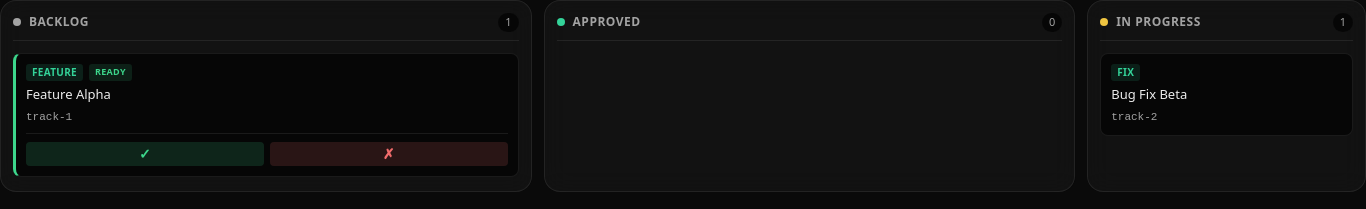
KanbanBoard › cancels reject when No is clicked
The width and height of the screenshot is (1366, 209).
Click the button titled "Reject".
click(389, 154)  # box top-left (270, 142), bottom-right (508, 166)
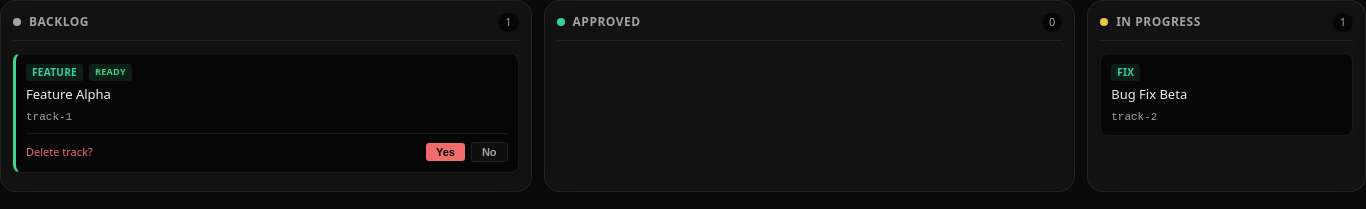
Click the button "No".
click(489, 152)  # box top-left (471, 142), bottom-right (508, 162)
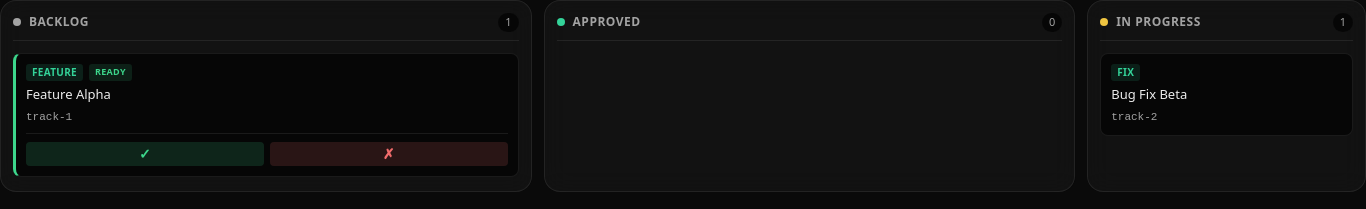
Now the text "Delete track?" is gone
Now the button titled "Approve" is shown, box top-left (26, 142), bottom-right (264, 166)
